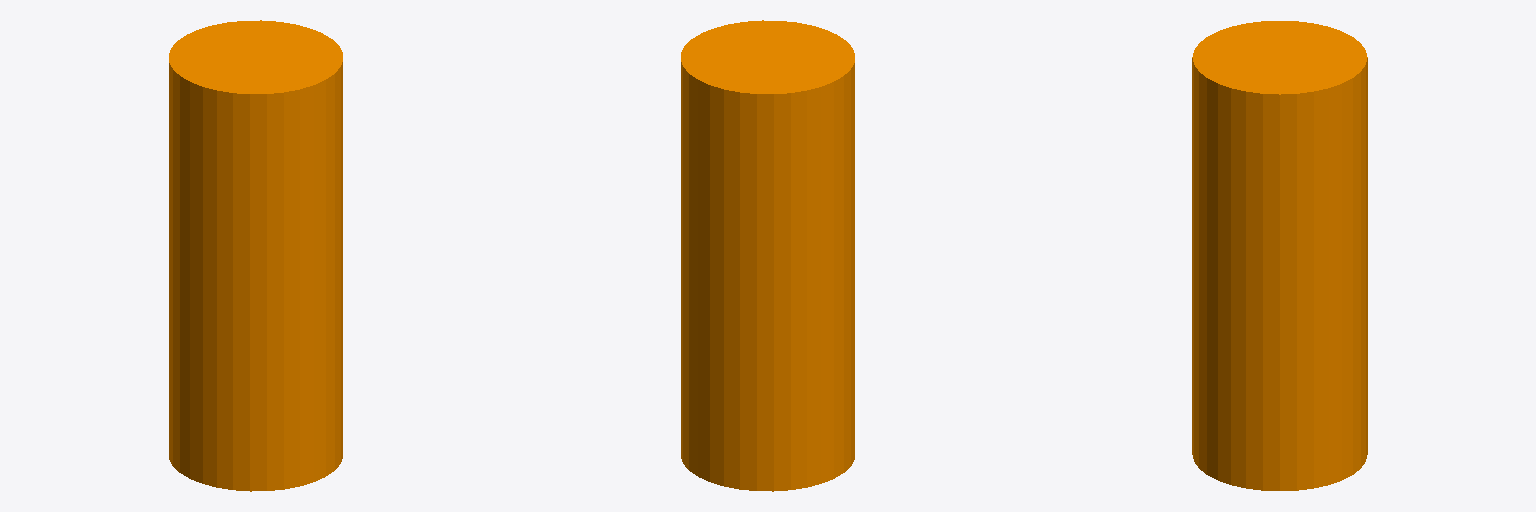
The robot description file, URDF, robot "cylinder":
<?xml version='1.0' encoding='UTF-8'?>
<robot name="cylinder">
  <link name="base_link">
    <inertial>
      <origin xyz="0.0 0.0 0.0" rpy="0.0 -0.0 0.0"/>
      <mass value="1.0"/>
      <inertia ixx="1.0" ixy="0.0" ixz="0.0" iyy="1.0" iyz="0.0" izz="1.0"/>
    </inertial>
    <visual name="base_link_visual">
      <geometry>
        <cylinder radius="0.2" length="1.0"/>
      </geometry>
      <origin xyz="0 0 0" rpy="0 0 0"/>
      <material name="object_color">
        <color rgba="1 0.6 0 1"/>
      </material>
    </visual>
    <collision name="base_link_collision">
      <geometry>
        <cylinder radius="0.2" length="1.0"/>
      </geometry>
      <origin xyz="0 0 0" rpy="0 0 0"/>
    </collision>
  </link>
</robot> 

--- Render facts (derived) ---
3 views of the same robot in one strip: view 1: azimuth 30°, elevation 25°; view 2: azimuth 150°, elevation 25°; view 3: azimuth 270°, elevation 25° (orthographic).
Model cylinder with 1 links and 0 joints (none), rooted at base_link, posed all joints at 0.
Links seen in each view (by area): view 1: base_link; view 2: base_link; view 3: base_link.
Link boxes in pixels (bbox=[...]): base_link: bbox=[169, 20, 342, 491]; base_link: bbox=[681, 20, 854, 491]; base_link: bbox=[1192, 21, 1367, 490].
Size in the robot's own frame: 0.4 by 0.4 by 1 metres.
Geometry: primitives only (box / cylinder / sphere), no mesh files.
